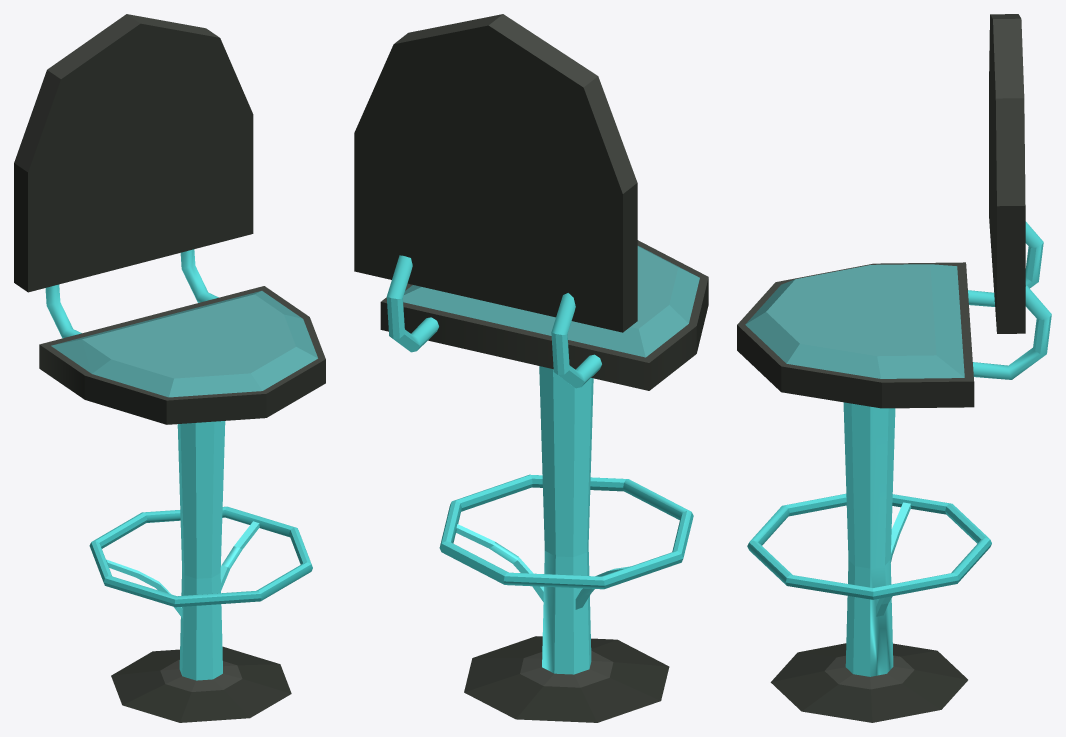
File: Stool_F.glb
3 renders of one model, left to right at view 1: azimuth 30°, elevation 25°; view 2: azimuth 150°, elevation 25°; view 3: azimuth 270°, elevation 25°, orthographic. The views are drawn at different scales.
Parts seen in each view (by area): view 1: barstool_C; view 2: barstool_C; view 3: barstool_C.
Boxes of the visible parts, x1,y1,x2,y2 form: barstool_C: (14,14,325,722); barstool_C: (354,14,708,722); barstool_C: (737,14,1051,722).
Size of what is drawn, in the model's own units: 0.6258 by 1.6 by 0.689.
1 material, 1 textured.
